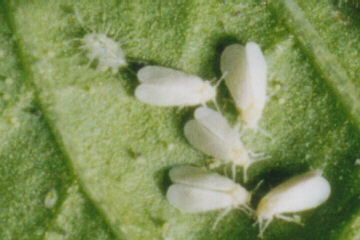whitefly: (183, 107, 272, 182), (167, 164, 265, 229), (220, 41, 273, 142), (133, 63, 226, 118), (255, 170, 333, 233)
